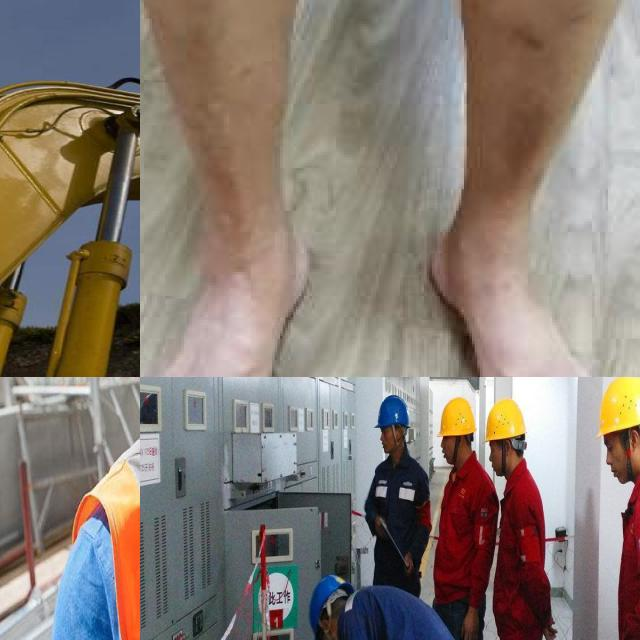Barefoots: (140, 223, 347, 377), (417, 225, 619, 377)
No_Ear-Protection: (599, 377, 640, 484), (486, 396, 529, 480), (311, 565, 359, 640), (436, 387, 478, 466), (372, 390, 414, 456)
person: (54, 377, 140, 640)
vest: (69, 384, 140, 640)
